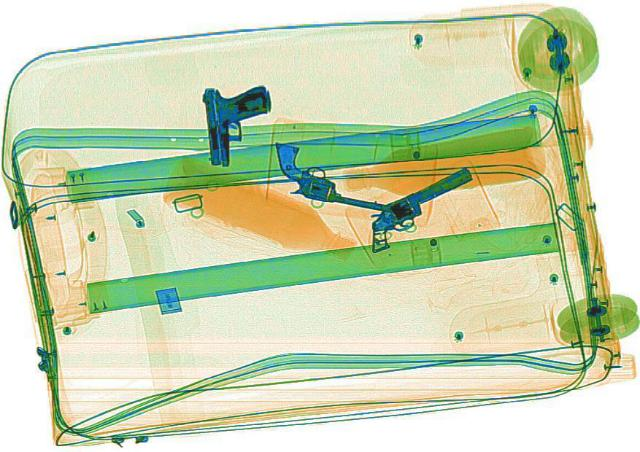Gun: (340, 165, 496, 253), (253, 140, 425, 214), (196, 82, 274, 163)
